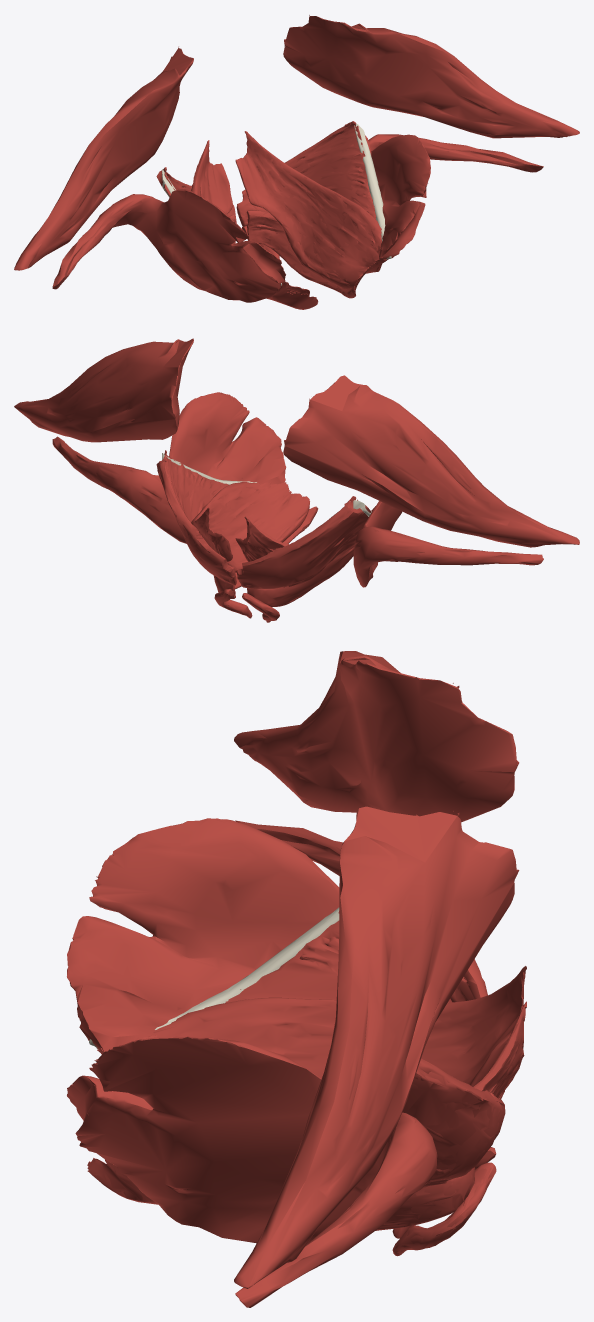
Rendered from muscular.pelvis.glb.
The picture shows the model from 3 angles, top to bottom: view 1: azimuth 30°, elevation 25°; view 2: azimuth 150°, elevation 25°; view 3: azimuth 270°, elevation 25°; orthographic projection. The views are drawn at different scales.
Parts seen in each view (by area): view 1: left_piriformis, right_obturator_internus, left_pubococcygeus, right_piriformis, left_obturator_internus, left_iliococcygeus, left_puborectalis, right_pubococcygeus, tendinous_arch_of_levator_ani, right_puborectalis, right_iliococcygeus; view 2: right_piriformis, left_obturator_internus, left_piriformis, left_pubococcygeus, right_obturator_internus, right_iliococcygeus, left_iliococcygeus, right_puborectalis, right_pubococcygeus, external_anal_sphincter, left_puborectalis, tendinous_arch_of_levator_ani; view 3: left_piriformis, left_obturator_internus, right_obturator_internus, right_piriformis, right_pubococcygeus, left_iliococcygeus, right_iliococcygeus, left_puborectalis, external_anal_sphincter, tendinous_arch_of_levator_ani, left_pubococcygeus.
Boxes of the visible parts, x1,y1,x2,y2 form: left_piriformis: (283, 15, 579, 138); right_obturator_internus: (52, 189, 285, 302); left_pubococcygeus: (235, 131, 381, 289); right_piriformis: (14, 46, 193, 270); left_obturator_internus: (366, 134, 543, 273); left_iliococcygeus: (236, 121, 376, 226); left_puborectalis: (246, 210, 386, 298); right_pubococcygeus: (191, 140, 309, 294); tendinous_arch_of_levator_ani: (162, 123, 391, 285); right_puborectalis: (229, 214, 318, 309); right_iliococcygeus: (156, 167, 236, 222); right_piriformis: (283, 375, 579, 547); left_obturator_internus: (52, 392, 286, 543); left_piriformis: (14, 338, 193, 442); left_pubococcygeus: (191, 482, 309, 572); right_obturator_internus: (353, 501, 543, 587); right_iliococcygeus: (236, 496, 371, 588); left_iliococcygeus: (156, 450, 236, 585); right_puborectalis: (247, 543, 354, 607); right_pubococcygeus: (235, 506, 375, 561); external_anal_sphincter: (214, 589, 279, 622); left_puborectalis: (213, 478, 318, 598); tendinous_arch_of_levator_ani: (162, 453, 371, 516); left_piriformis: (234, 806, 519, 1288); left_obturator_internus: (67, 1036, 437, 1307); right_obturator_internus: (67, 818, 342, 1054); right_piriformis: (234, 651, 519, 822); right_pubococcygeus: (152, 966, 526, 1086); left_iliococcygeus: (402, 1058, 505, 1189); right_iliococcygeus: (225, 911, 504, 1099); left_puborectalis: (87, 1158, 474, 1230); external_anal_sphincter: (392, 1147, 496, 1256); tendinous_arch_of_levator_ani: (89, 907, 339, 1049); left_pubococcygeus: (105, 1001, 526, 1159).
Size of the model in its own units: 0.2741 by 0.1188 by 0.0966.
